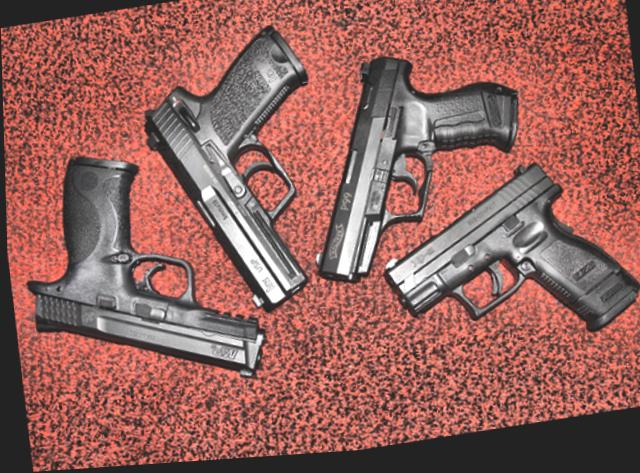pistol: (11, 130, 266, 414), (285, 44, 536, 289), (131, 25, 328, 330), (370, 154, 637, 368)
